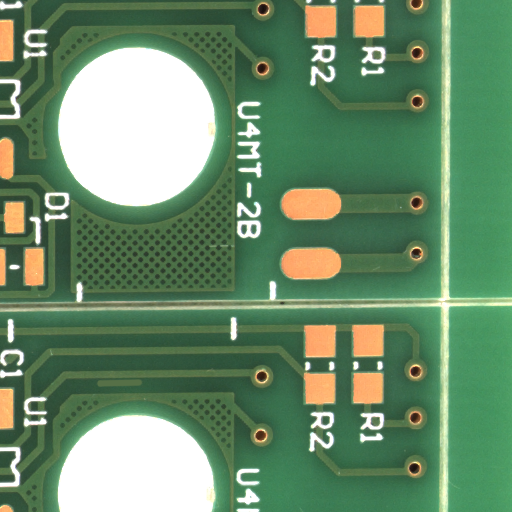Spurious_copper: (119, 382, 168, 393)
